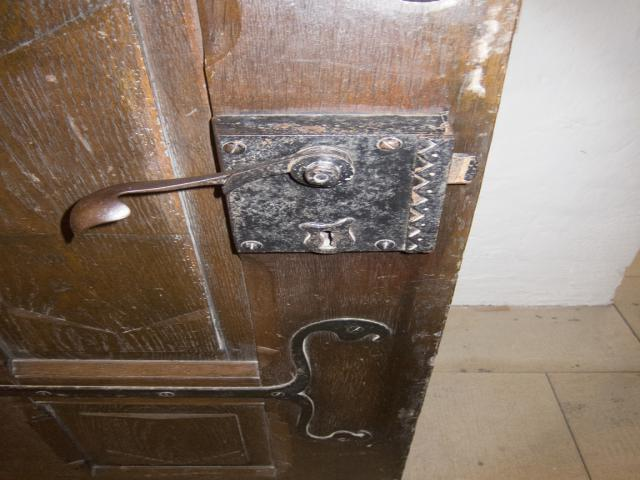Door-handle: (67, 113, 439, 255)
